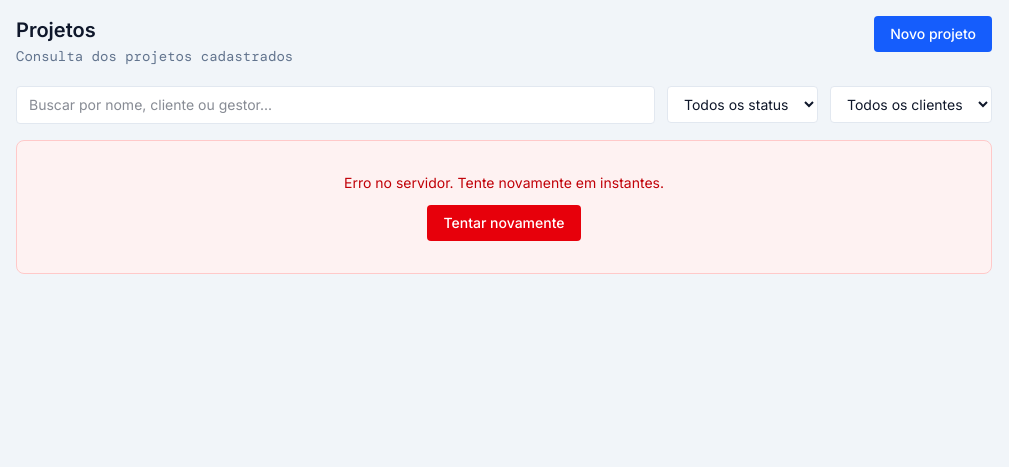
it: ProjectsPage (RF04) › exibe a falha da API e permite tentar de novo
expect the message shows "Erro no servidor. Tente novamente em instantes.": met, box x1=344 y1=174 x2=664 y2=191
Click the button "Tentar novamente" at (504, 223), box x1=428 y1=205 x2=581 y2=241
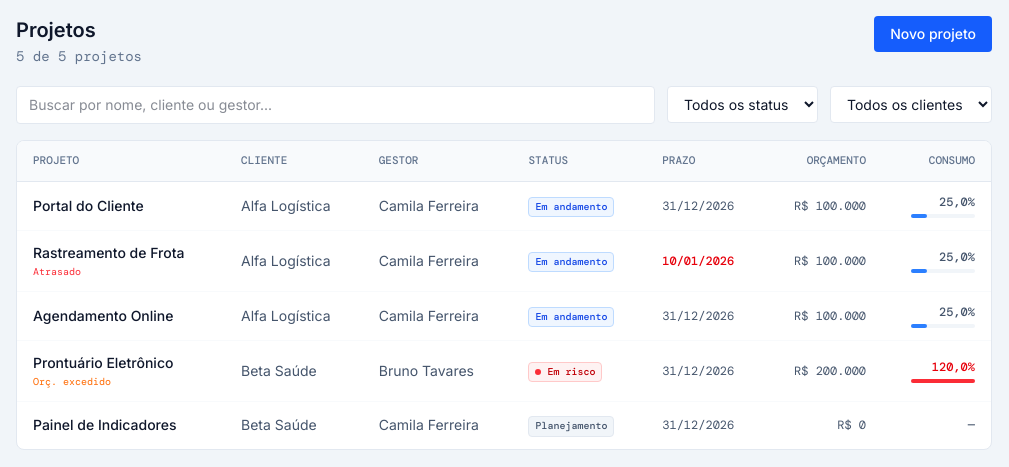
expect the link "Portal do Cliente" is shown: met, box x1=33 y1=197 x2=144 y2=214
expect the message "Erro no servidor. Tente novamente em instantes. Tentar novamente" is gone: met
